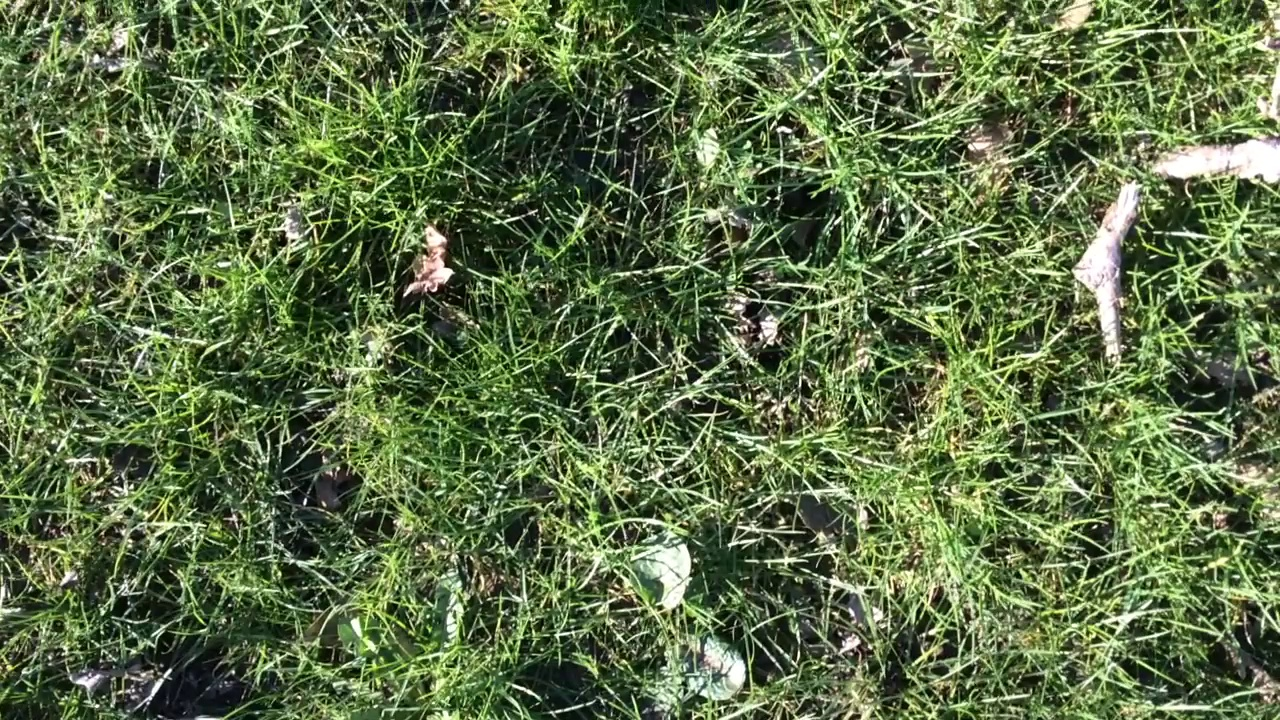rumex: (658, 637, 745, 702), (634, 535, 691, 611)
